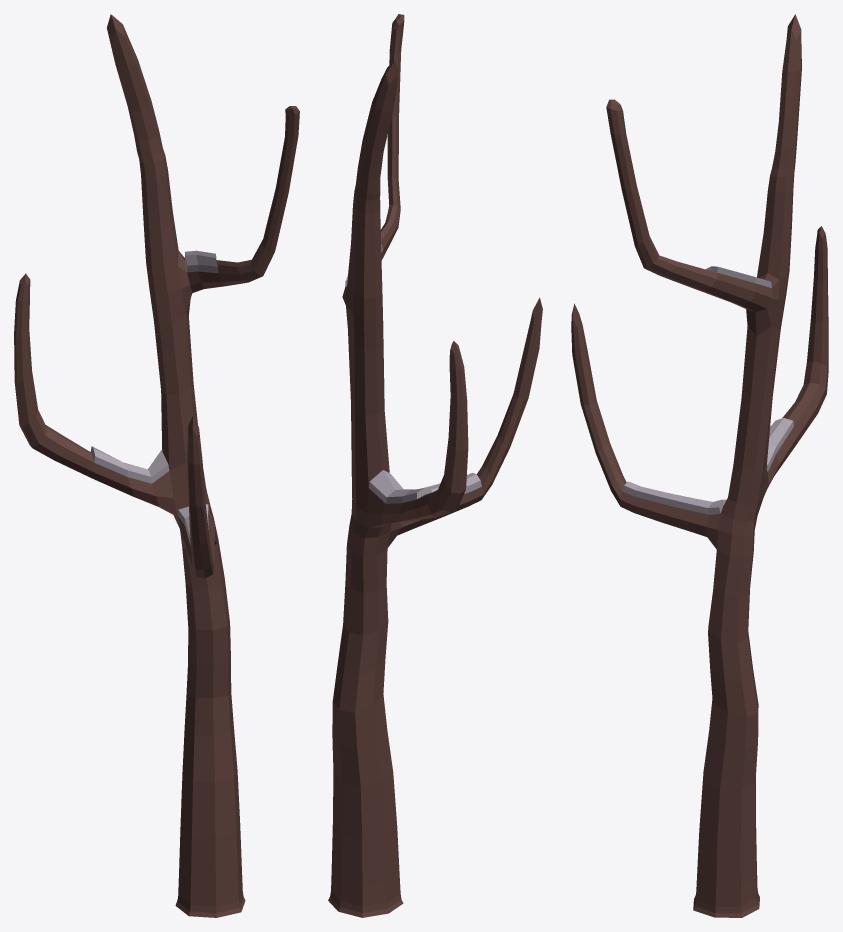
The model's file is commontree_dead_snow3.glb.
3 views of the same model, side by side, from view 1: azimuth 30°, elevation 25°; view 2: azimuth 150°, elevation 25°; view 3: azimuth 270°, elevation 25° (orthographic). The views are drawn at different scales.
Parts seen in each view (by area): view 1: CommonTree_Dead_Snow_3; view 2: CommonTree_Dead_Snow_3; view 3: CommonTree_Dead_Snow_3.
Part boxes in pixels (box(x1,y1,x2,y2)): CommonTree_Dead_Snow_3: box(14, 14, 299, 917); CommonTree_Dead_Snow_3: box(328, 14, 542, 917); CommonTree_Dead_Snow_3: box(571, 14, 828, 917).
Bounding box in the file's own units: 0.6352 × 3 × 0.8125.
